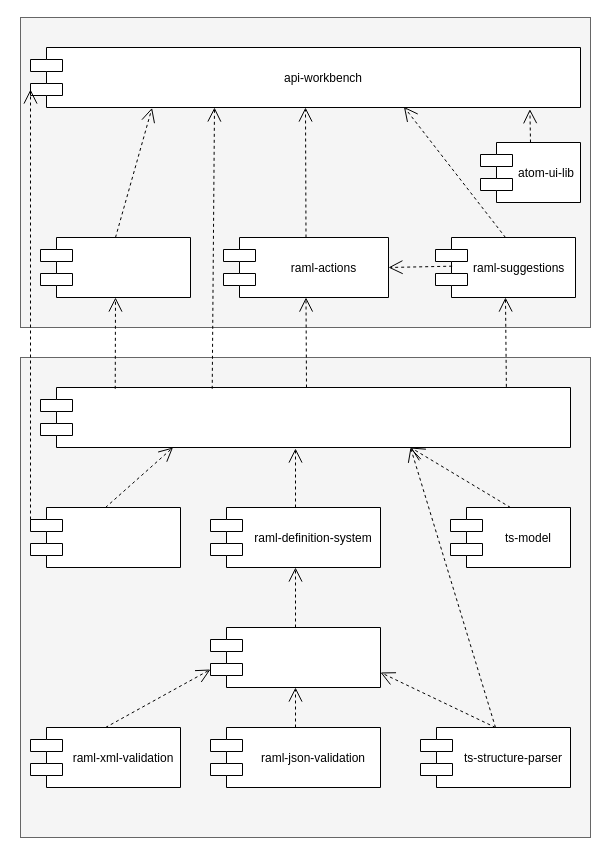
Image size: 608x855. Some labels were removed from this diagram. Each missing label, with the centre of its shape:
raml-1-parser: (305,417)
raml-outline: (115,267)
raml-typesystem: (295,657)
yaml-ast-parser: (105,537)
